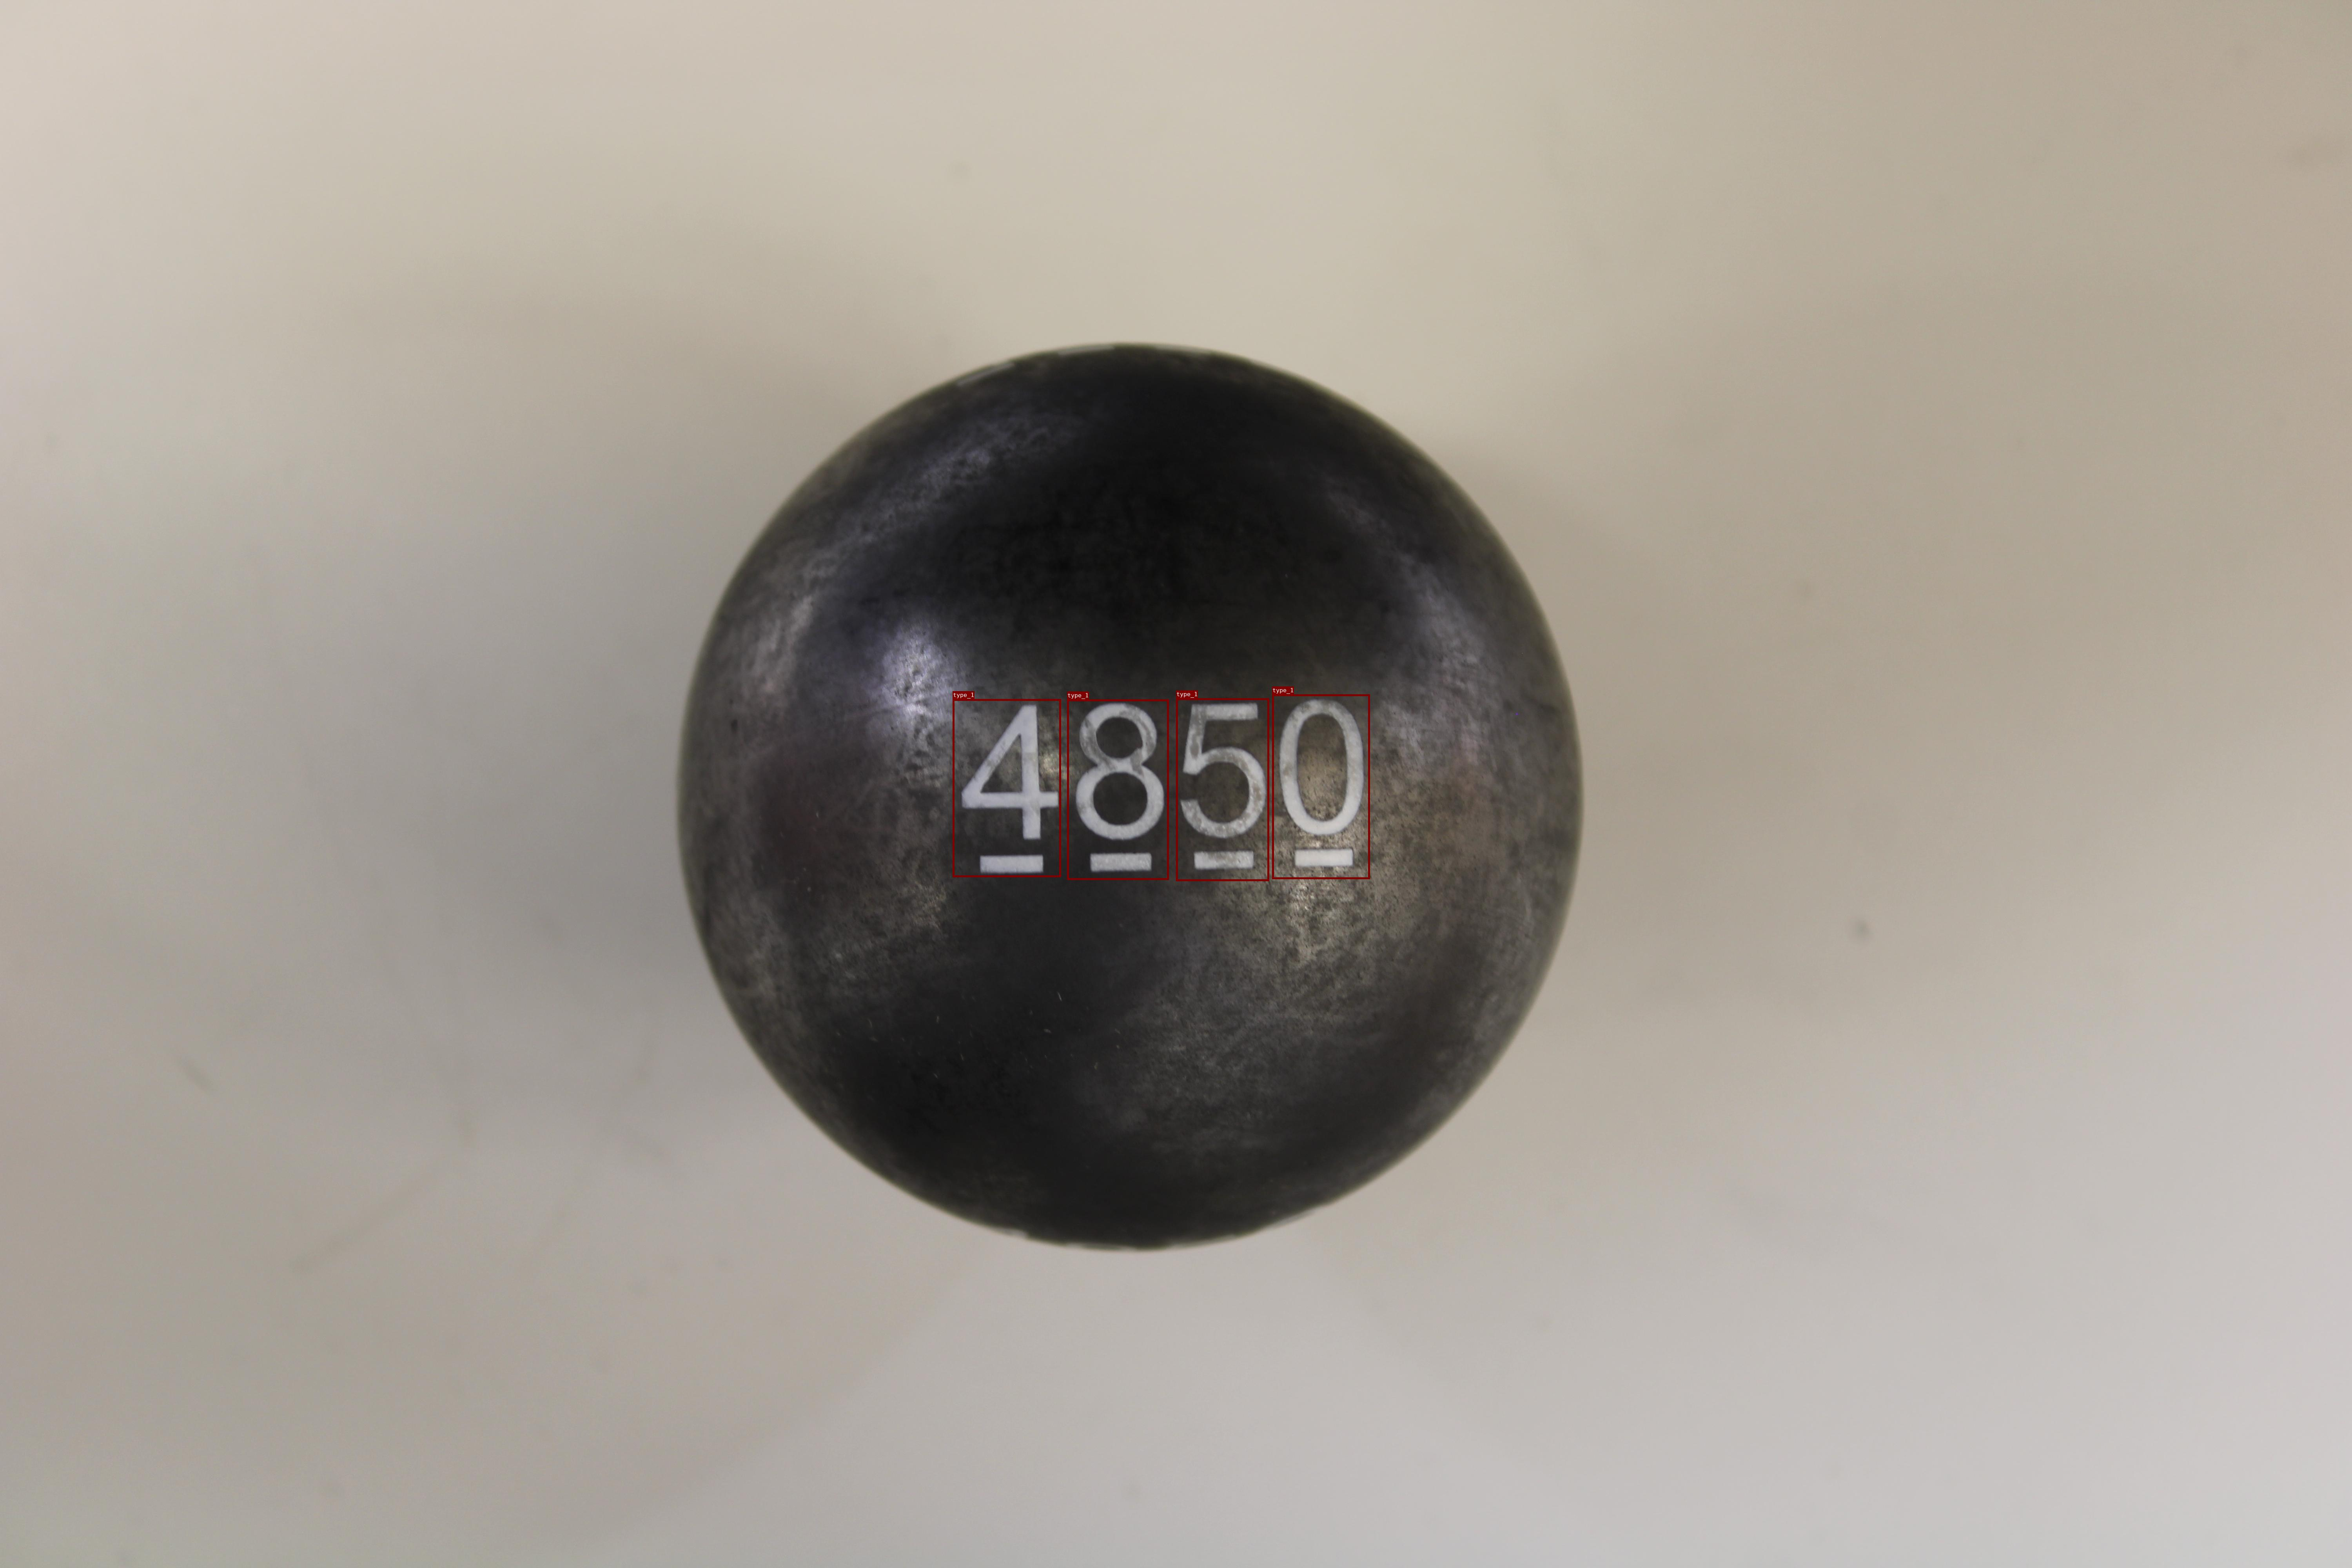type_1: (952, 698, 1061, 877), (1067, 700, 1169, 880), (1272, 695, 1370, 878), (1176, 698, 1269, 880)
